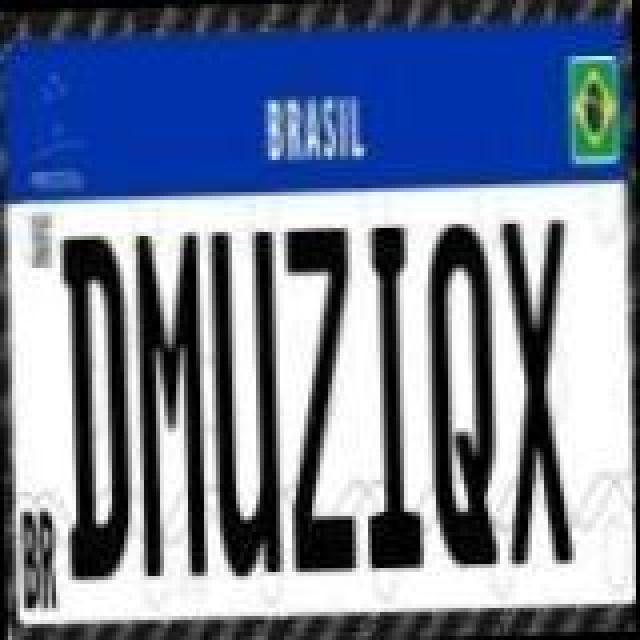D: (56, 232, 136, 584)
I: (356, 220, 428, 568)
M: (128, 230, 208, 582)
Q: (420, 216, 500, 568)
U: (204, 226, 284, 578)
X: (496, 212, 576, 564)
Z: (280, 224, 360, 576)
